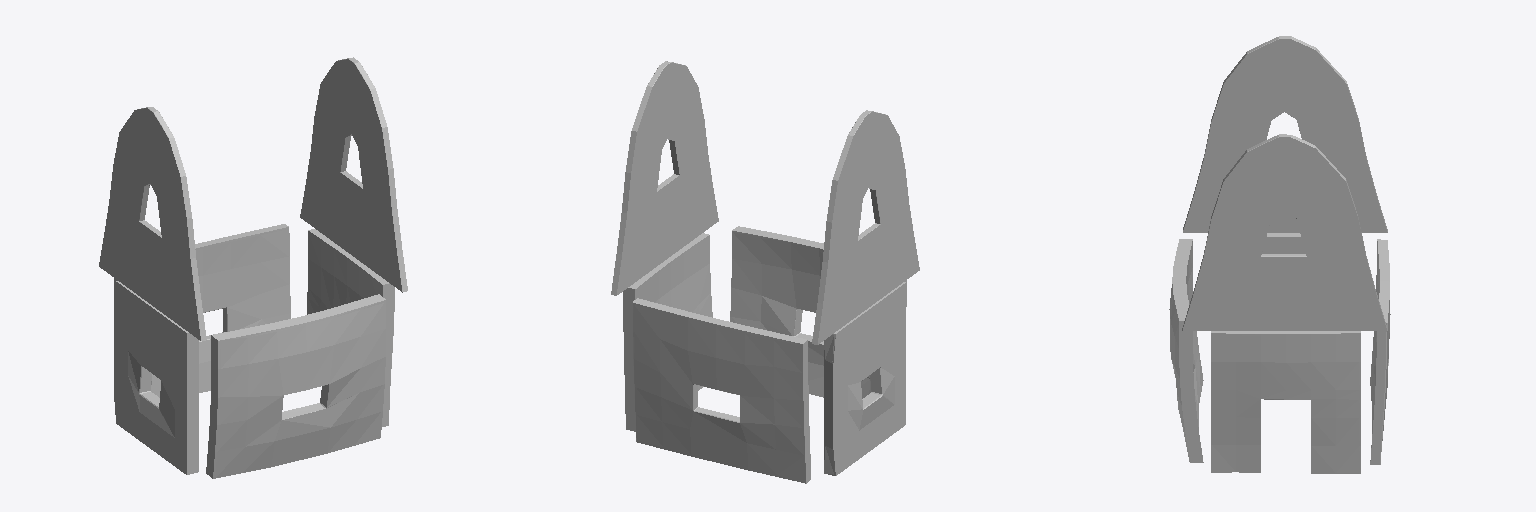
The model's file is Paredes.obj.
3 renders of one model, left to right at view 1: azimuth 30°, elevation 25°; view 2: azimuth 150°, elevation 25°; view 3: azimuth 270°, elevation 25°, orthographic.
Parts seen in each view (by area): view 1: steny; view 2: steny; view 3: steny.
Part boxes in pixels (left/top/right/bottom): steny: left=99, top=57, right=407, bottom=478; steny: left=611, top=61, right=919, bottom=483; steny: left=1169, top=36, right=1390, bottom=473.
Size of the model in its own units: 0.0554 by 0.0846 by 0.05.